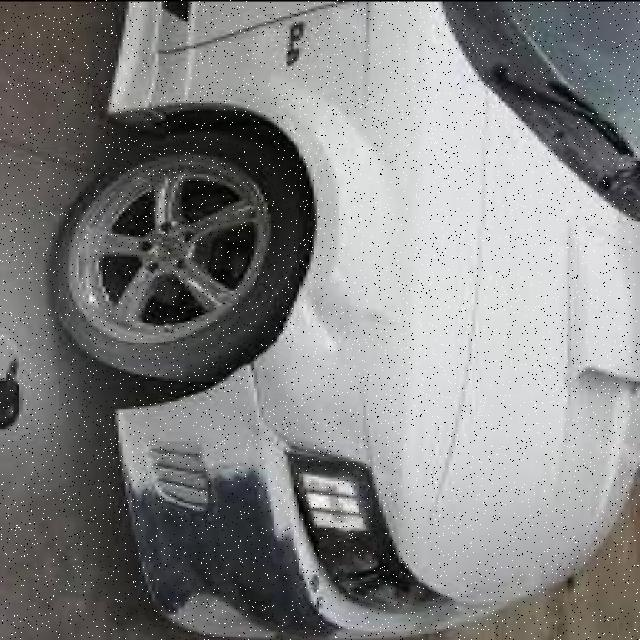damage: (122, 454, 335, 633), (297, 257, 404, 355)
